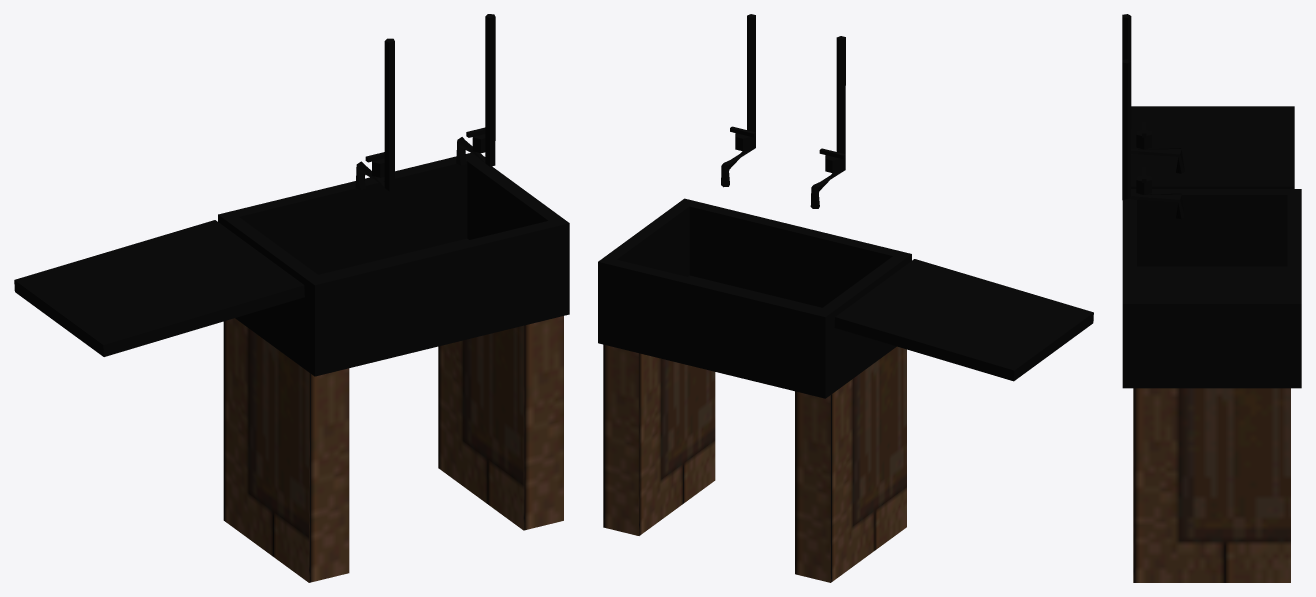
The model's file is SM_sink_butler.fbx.
The picture shows the model from 3 angles, left to right: view 1: azimuth 30°, elevation 25°; view 2: azimuth 150°, elevation 25°; view 3: azimuth 270°, elevation 25°; orthographic projection. The views are drawn at different scales.
Visible parts, largest first — view 1: sink_butler; view 2: sink_butler; view 3: sink_butler.
Part boxes in pixels (x1,y1,x2,y2): sink_butler: (14, 14, 569, 582); sink_butler: (598, 14, 1093, 582); sink_butler: (1122, 14, 1301, 582).
Bounding box in the file's own units: 1.38 × 1.5 × 0.5013.
